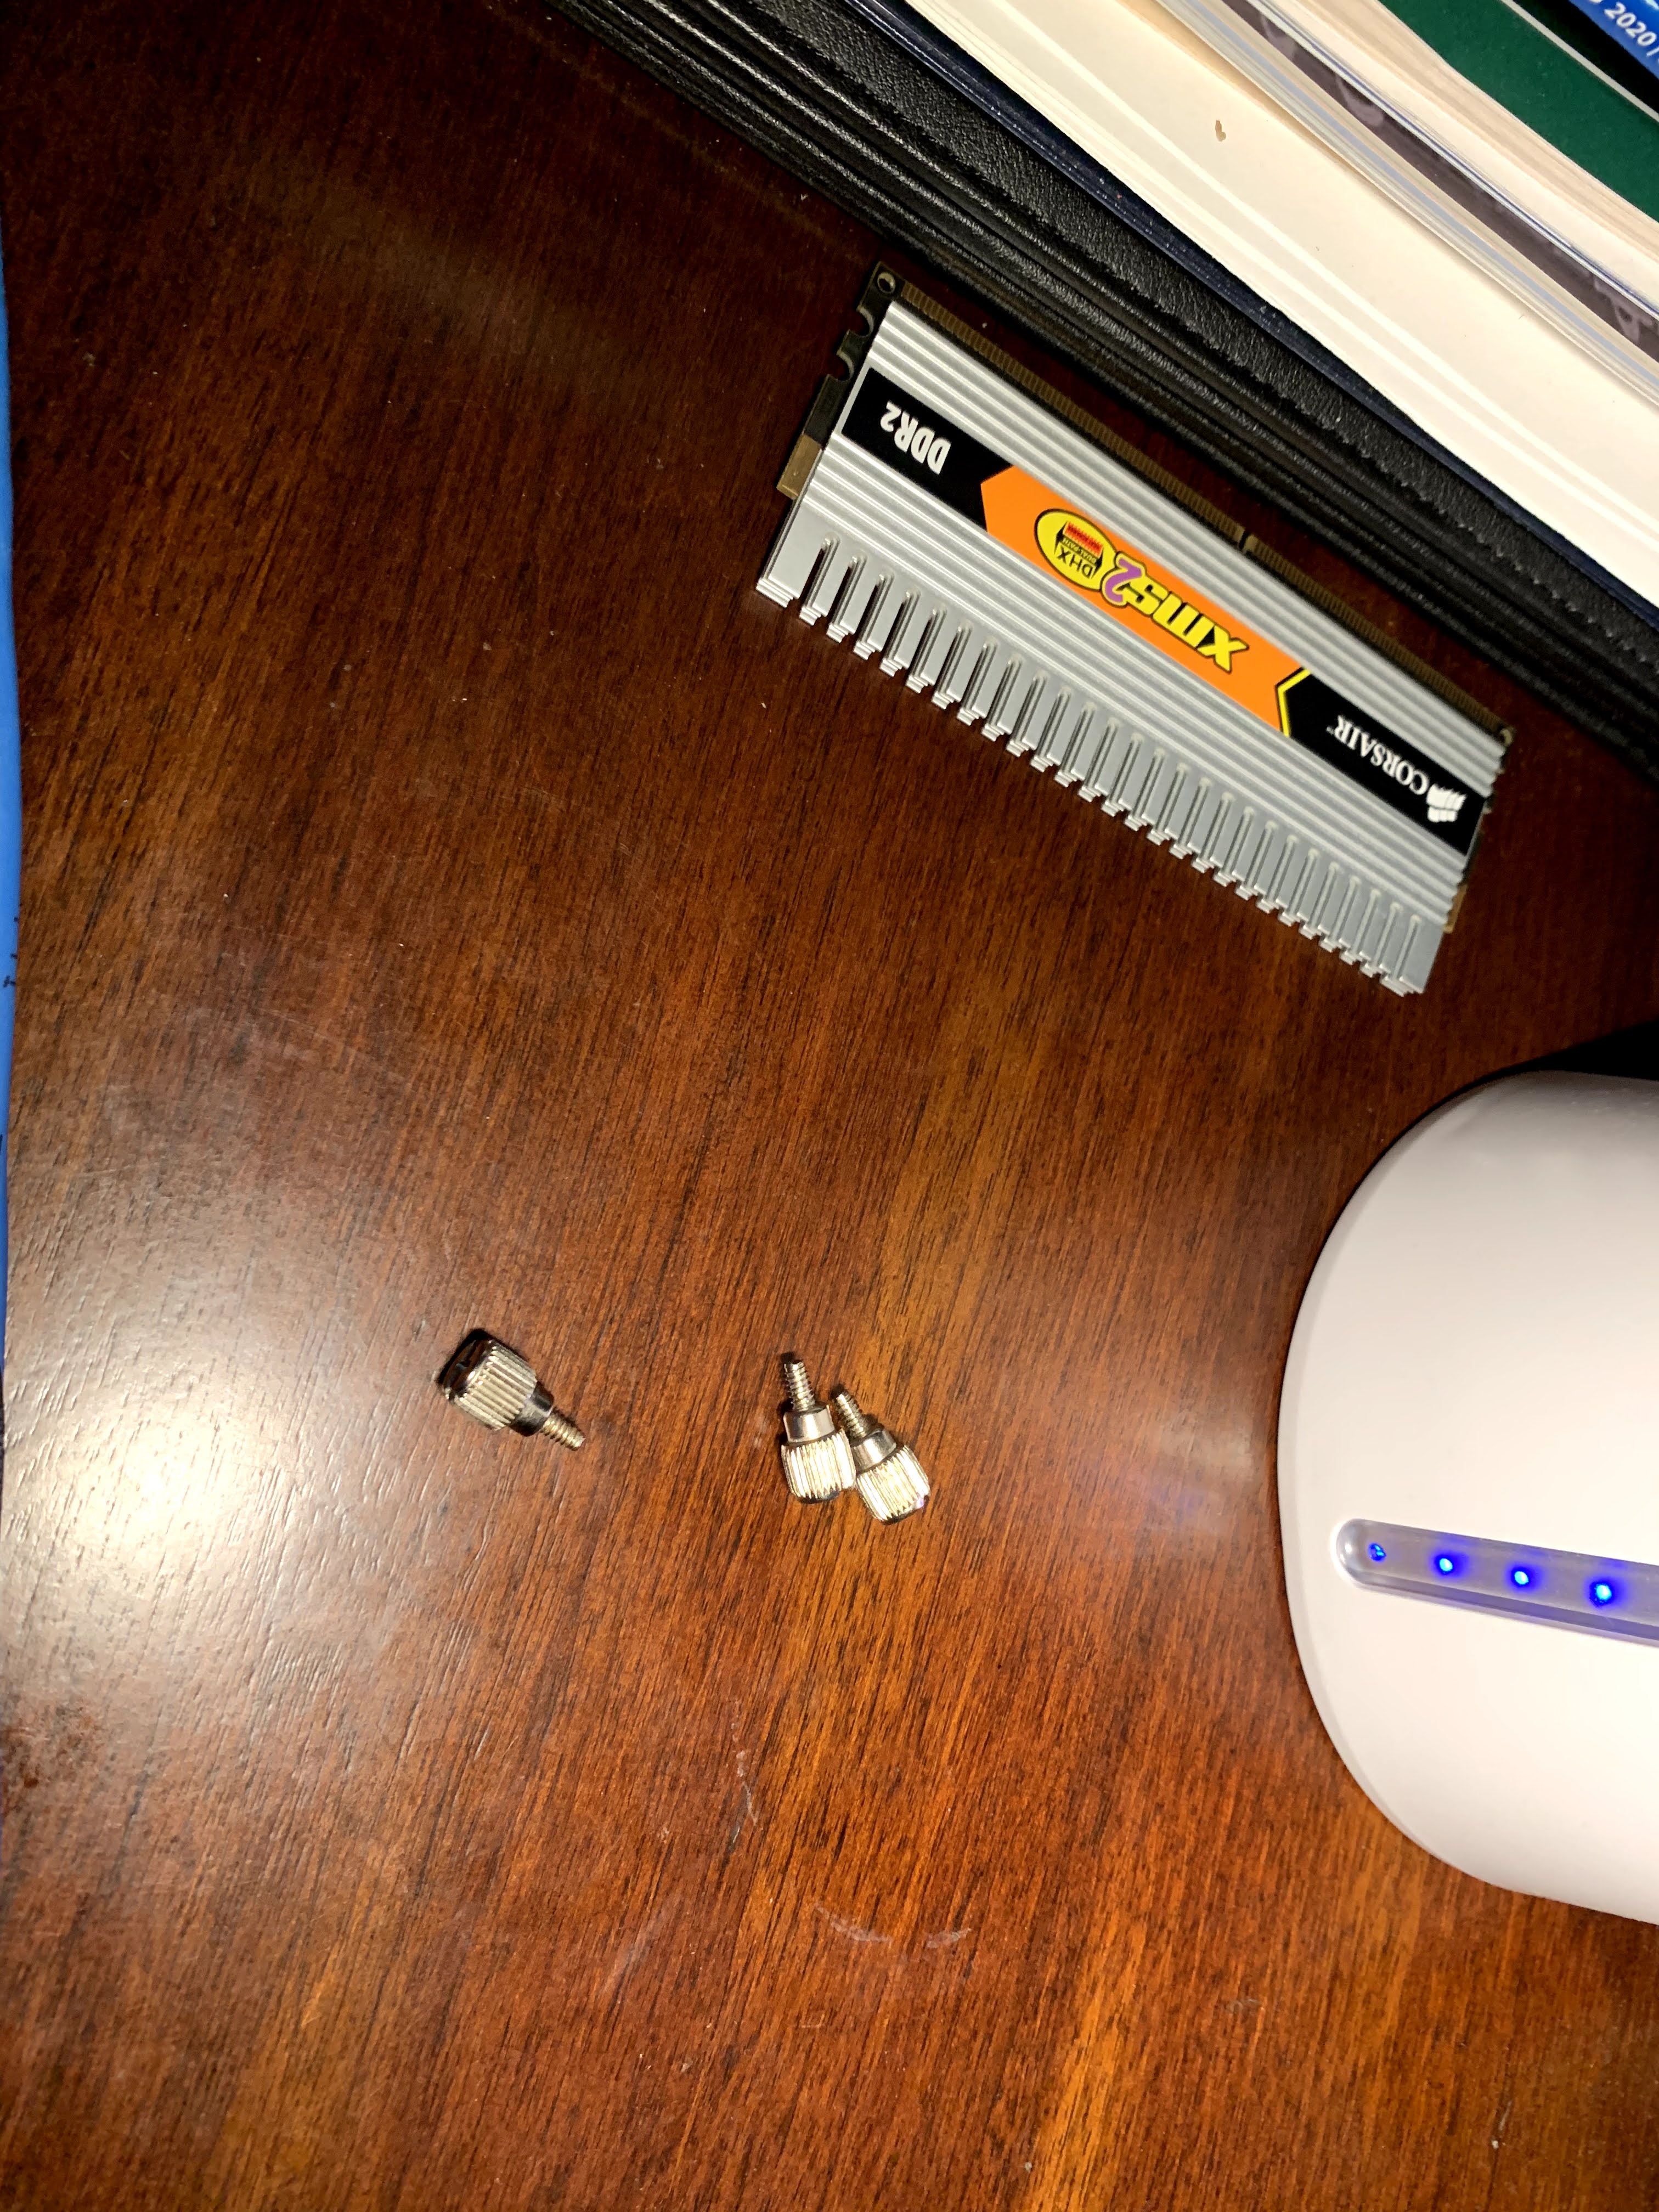Space-debris-medium: (737, 254, 1560, 1008)
Space-debris-small: (434, 1322, 596, 1465), (833, 1364, 941, 1529), (763, 1353, 861, 1510)
